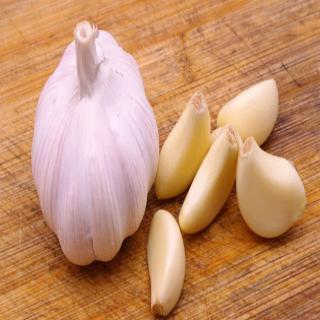Bawang Putih: (32, 20, 161, 267), (237, 136, 308, 239), (179, 124, 241, 235), (155, 90, 211, 201), (147, 209, 187, 318), (217, 77, 280, 146)
